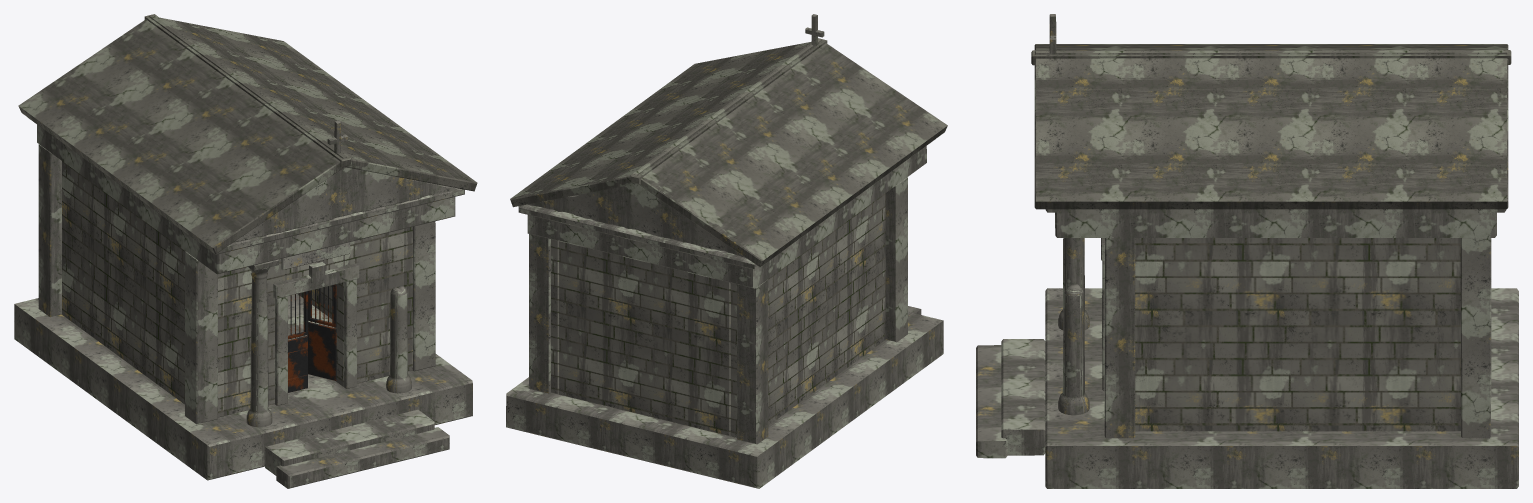
Rendered from Mausoleum.gltf.
3 renders of one model, left to right at view 1: azimuth 30°, elevation 25°; view 2: azimuth 150°, elevation 25°; view 3: azimuth 270°, elevation 25°, orthographic. The views are drawn at different scales.
Parts seen in each view (by area): view 1: Mausoleum; view 2: Mausoleum; view 3: Mausoleum.
Part boxes in pixels (left/top/right/bottom): Mausoleum: left=14, top=14, right=477, bottom=488; Mausoleum: left=506, top=14, right=947, bottom=488; Mausoleum: left=976, top=14, right=1518, bottom=488.
Bounding box in the file's own units: 5.91 × 6.91 × 8.6.
Materials: 6 (5 with a texture image).
